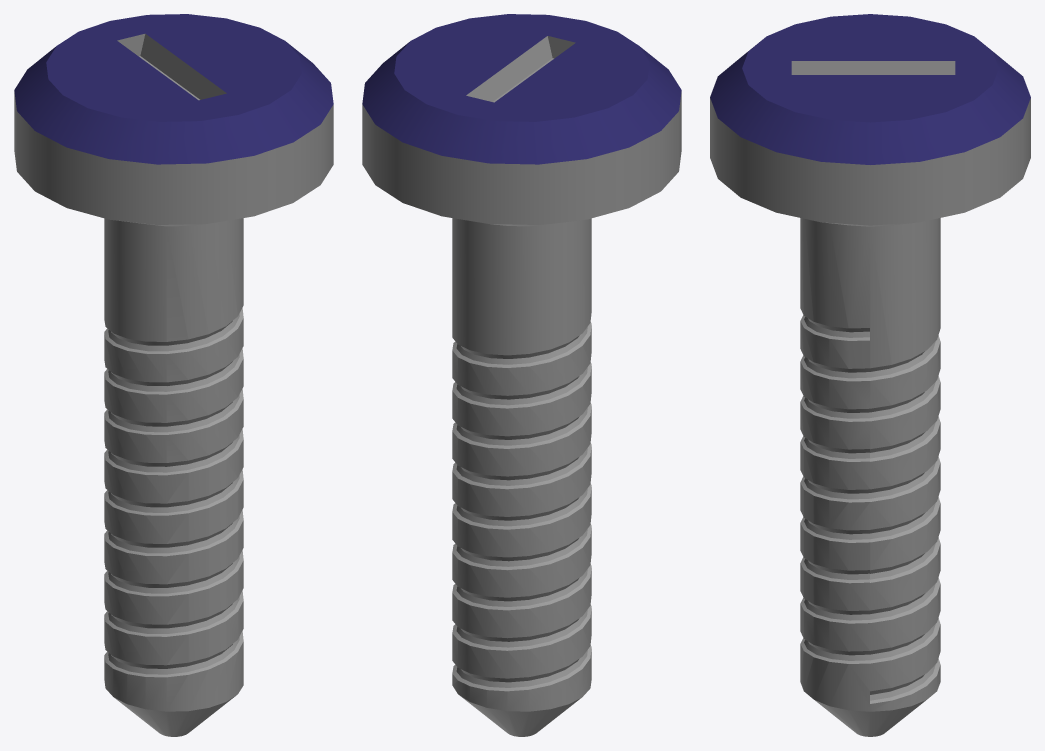
File: Screw.fbx
3 renders of one model, left to right at view 1: azimuth 30°, elevation 25°; view 2: azimuth 150°, elevation 25°; view 3: azimuth 270°, elevation 25°, orthographic.
Visible parts, largest first — view 1: pCylinder5; view 2: pCylinder5; view 3: pCylinder5.
Boxes of the visible parts, <box> form: pCylinder5: <box>14,14,333,736</box>; pCylinder5: <box>362,14,681,736</box>; pCylinder5: <box>710,14,1030,736</box>.
Size of the model in its own units: 42.88 by 97.54 by 42.88.
